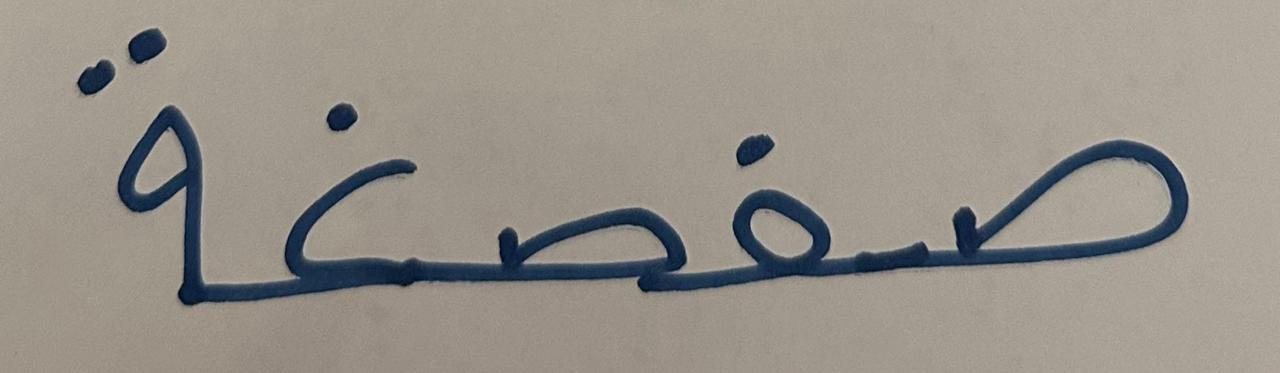feh: (694, 59, 918, 341)
ghain: (241, 55, 450, 343)
seen: (921, 77, 1243, 331), (454, 106, 691, 340)
thal: (53, 10, 239, 333)
